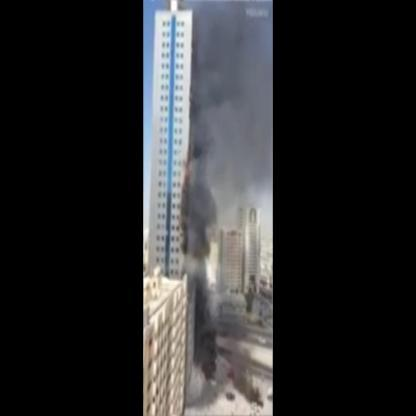smoke: (194, 9, 233, 179), (185, 181, 214, 254), (196, 280, 214, 374)
